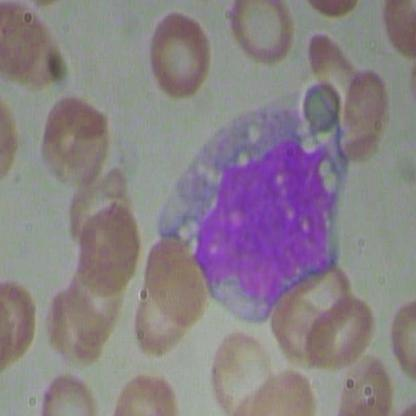RBC: (134, 231, 214, 330), (144, 10, 218, 109), (40, 90, 114, 189), (301, 292, 381, 380), (76, 198, 144, 295), (338, 62, 392, 160), (227, 1, 294, 65), (40, 372, 98, 415)
WBC: (148, 96, 356, 326)
